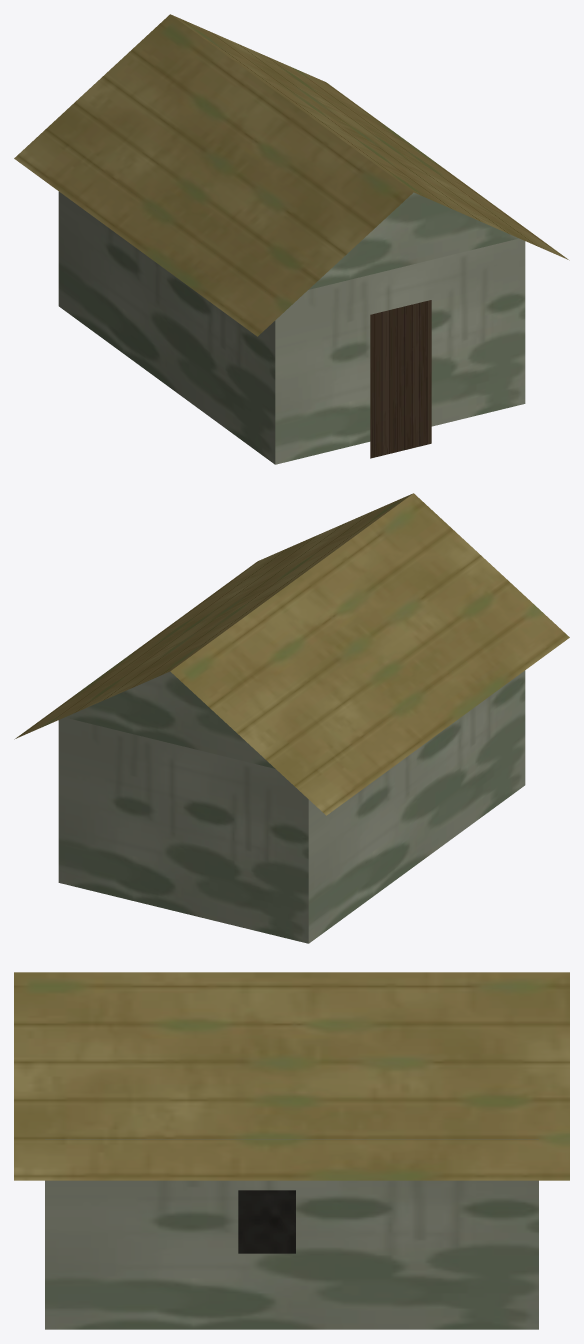
Rendered from ae_jungle_stone_medium_block_lod2.glb.
3 renders of one model, top to bottom at view 1: azimuth 30°, elevation 25°; view 2: azimuth 150°, elevation 25°; view 3: azimuth 270°, elevation 25°, orthographic. The views are drawn at different scales.
Visible parts, largest first — view 1: ae_jungle_stone_medium_block_lod2; view 2: ae_jungle_stone_medium_block_lod2; view 3: ae_jungle_stone_medium_block_lod2.
Boxes of the visible parts, x1,y1,x2,y2 form: ae_jungle_stone_medium_block_lod2: [14, 14, 569, 464]; ae_jungle_stone_medium_block_lod2: [14, 493, 569, 943]; ae_jungle_stone_medium_block_lod2: [14, 972, 569, 1329].
Bounding box in the file's own units: 5 × 4.1 × 6.75.
1 material, 1 textured.
